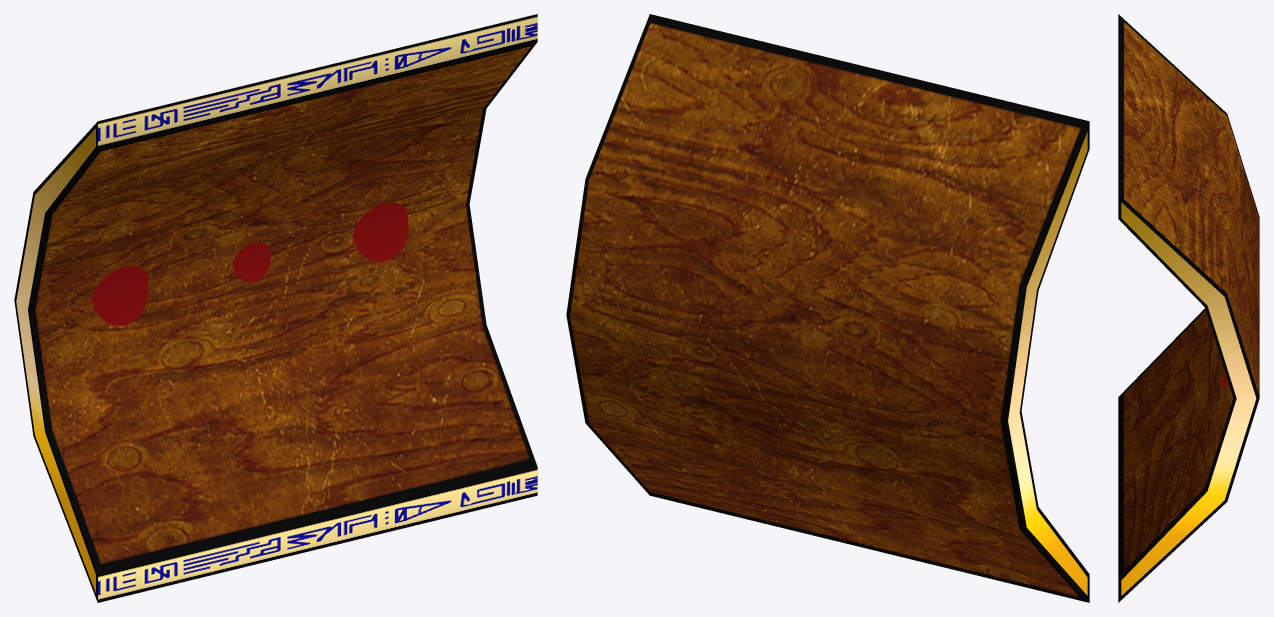
Rendered from jungle_wall.gltf.
3 views of the same model, side by side, from view 1: azimuth 30°, elevation 25°; view 2: azimuth 150°, elevation 25°; view 3: azimuth 270°, elevation 25° (orthographic). The views are drawn at different scales.
Visible parts, largest first — view 1: jungle_wall_glb; view 2: jungle_wall_glb; view 3: jungle_wall_glb.
Boxes of the visible parts, box(x1,y1,x2,y2) form: jungle_wall_glb: box(14, 14, 537, 602); jungle_wall_glb: box(566, 14, 1089, 602); jungle_wall_glb: box(1118, 14, 1259, 602).
Size of what is drawn, in the model's own units: 4 by 4.19 by 1.32.
2 materials, 2 textured.
